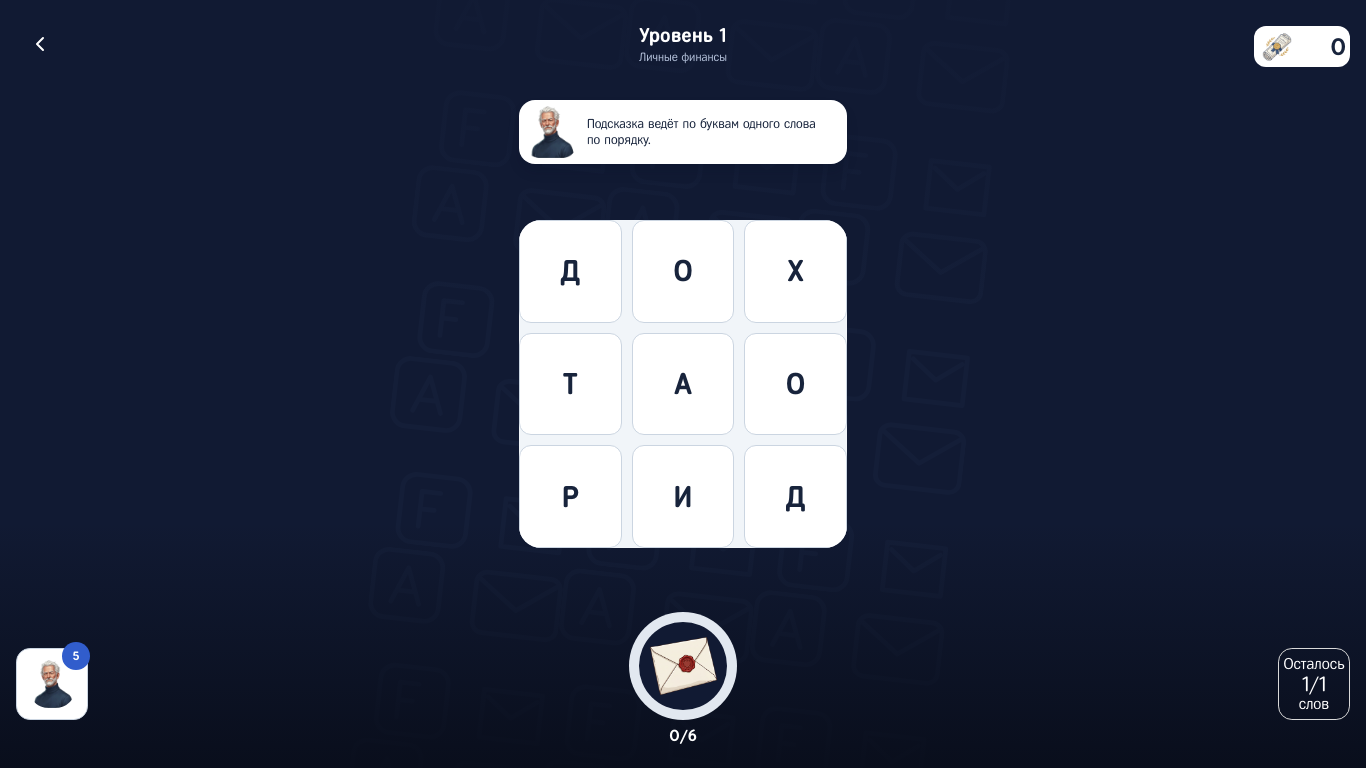
Scenario: P1 application shell › после пятого уникального bonus response показывает 1/6 и не сбрасывает progress в 0/0
The image size is (1366, 768).
Press the mouse on the button named "Д, строка 1, столбец 1": (570, 271) left=519, top=220, right=622, bottom=323
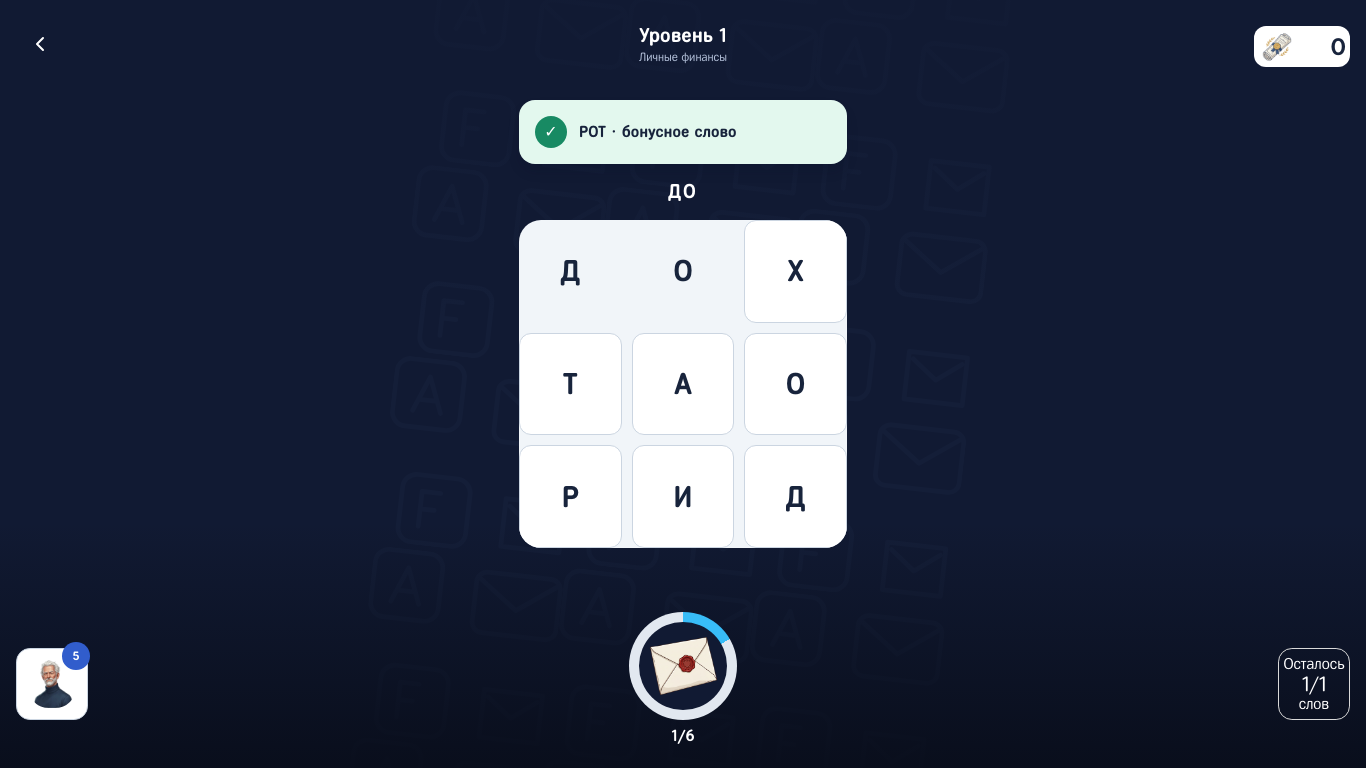
Expected: the text "РОТ · бонусное слово" is shown, left=579, top=120, right=736, bottom=144
Expected: the button named "Бонусные слова: 1" is shown
Expected: the text "1/6" is shown, left=671, top=726, right=694, bottom=745
Click the button named "Бонусные слова: 1": (683, 679) left=613, top=605, right=753, bottom=752
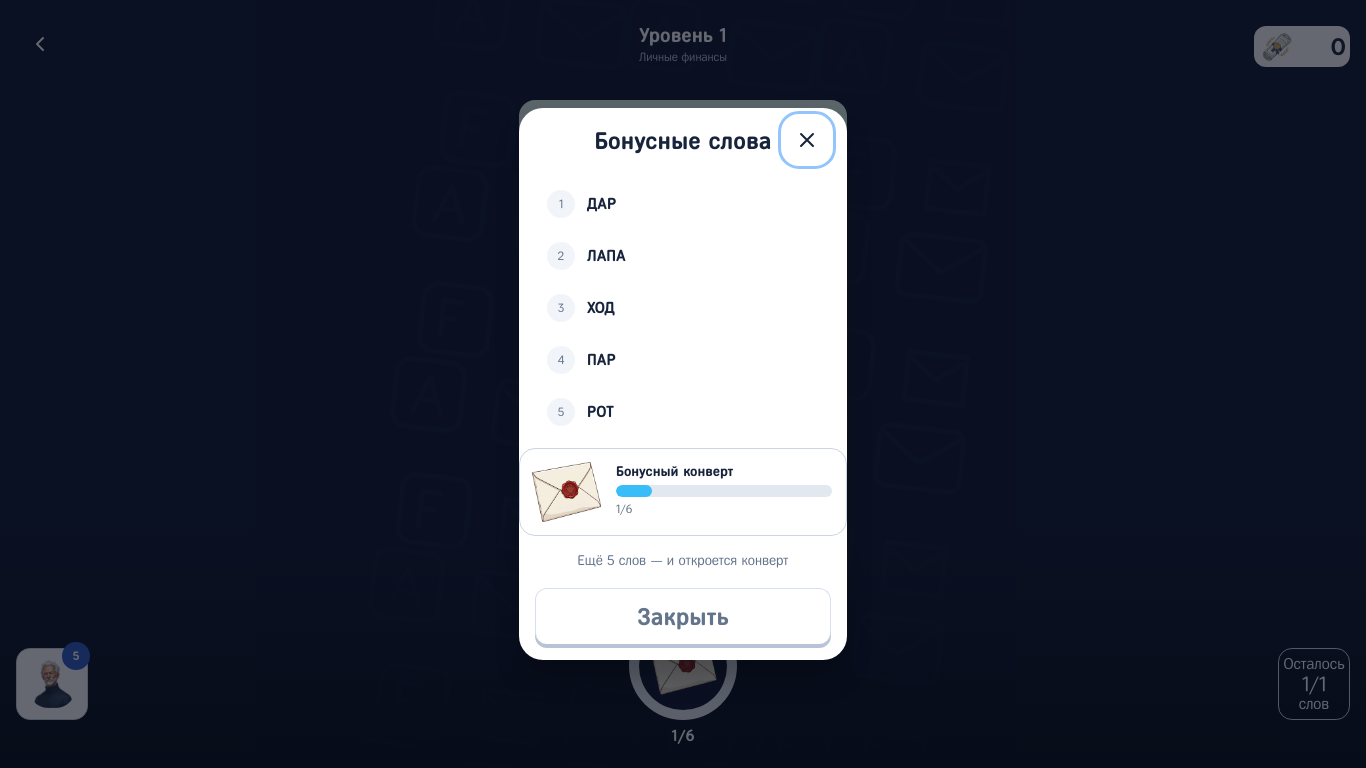
Expected: the text "1/6" is shown, left=616, top=502, right=632, bottom=514
